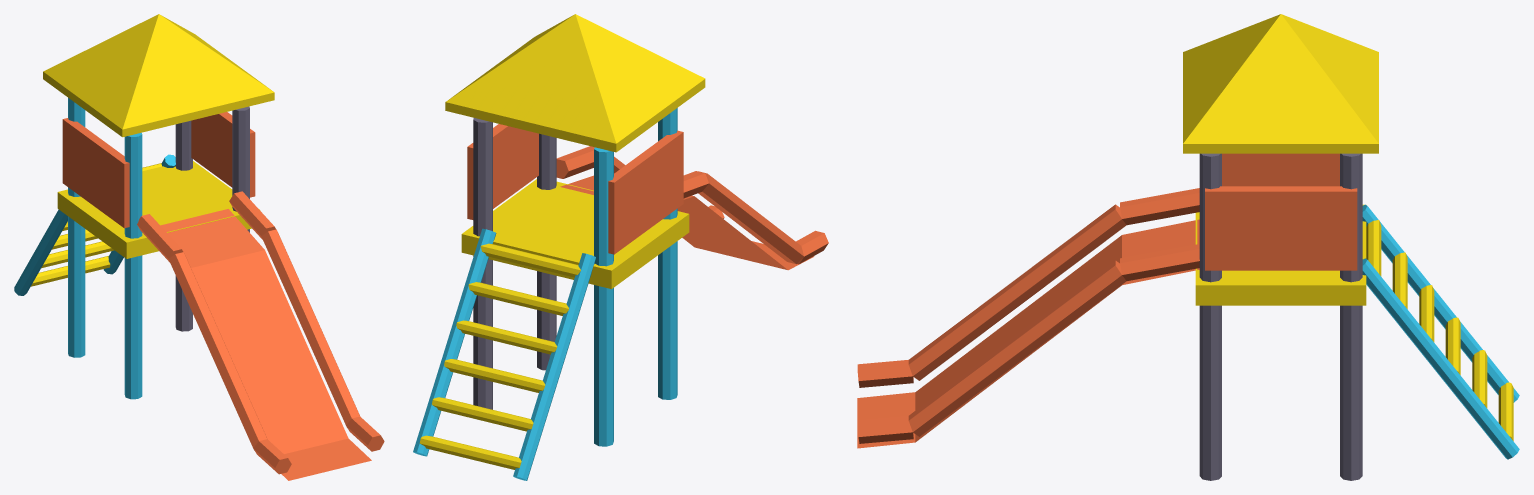
File: Playground_Slide_Tower.glb
3 views of the same model, side by side, from view 1: azimuth 30°, elevation 25°; view 2: azimuth 150°, elevation 25°; view 3: azimuth 270°, elevation 25° (orthographic). The views are drawn at different scales.
Visible parts, largest first — view 1: Playground_Slide_Tower; view 2: Playground_Slide_Tower; view 3: Playground_Slide_Tower.
Part boxes in pixels (left/top/right/bottom): Playground_Slide_Tower: left=14, top=14, right=384, bottom=480; Playground_Slide_Tower: left=413, top=14, right=828, bottom=480; Playground_Slide_Tower: left=857, top=14, right=1519, bottom=480.
Bounding box in the file's own units: 1.64 × 3.58 × 5.
